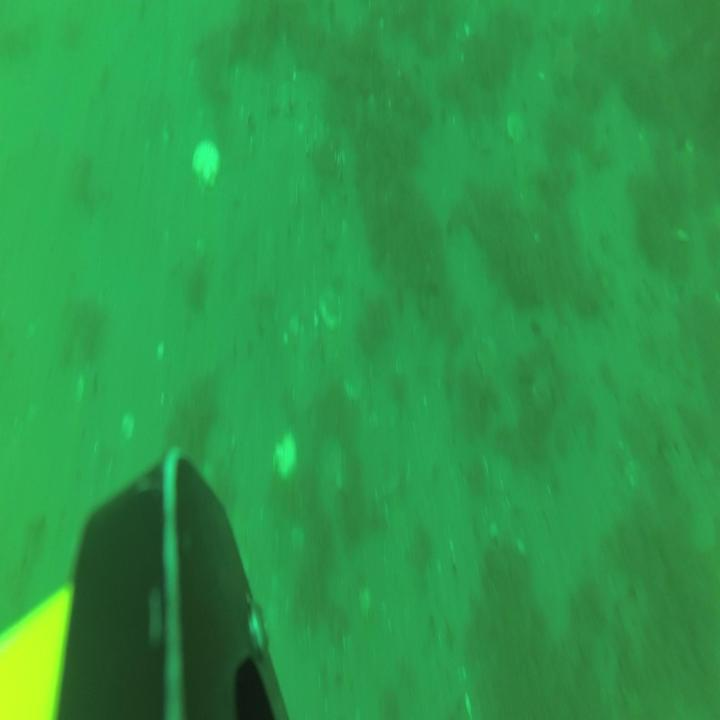scallop: (312, 436, 345, 502), (190, 141, 222, 191), (466, 116, 498, 160), (272, 430, 298, 484), (474, 335, 503, 380), (317, 286, 346, 330), (506, 110, 527, 144)
starfish: (549, 31, 582, 84)
